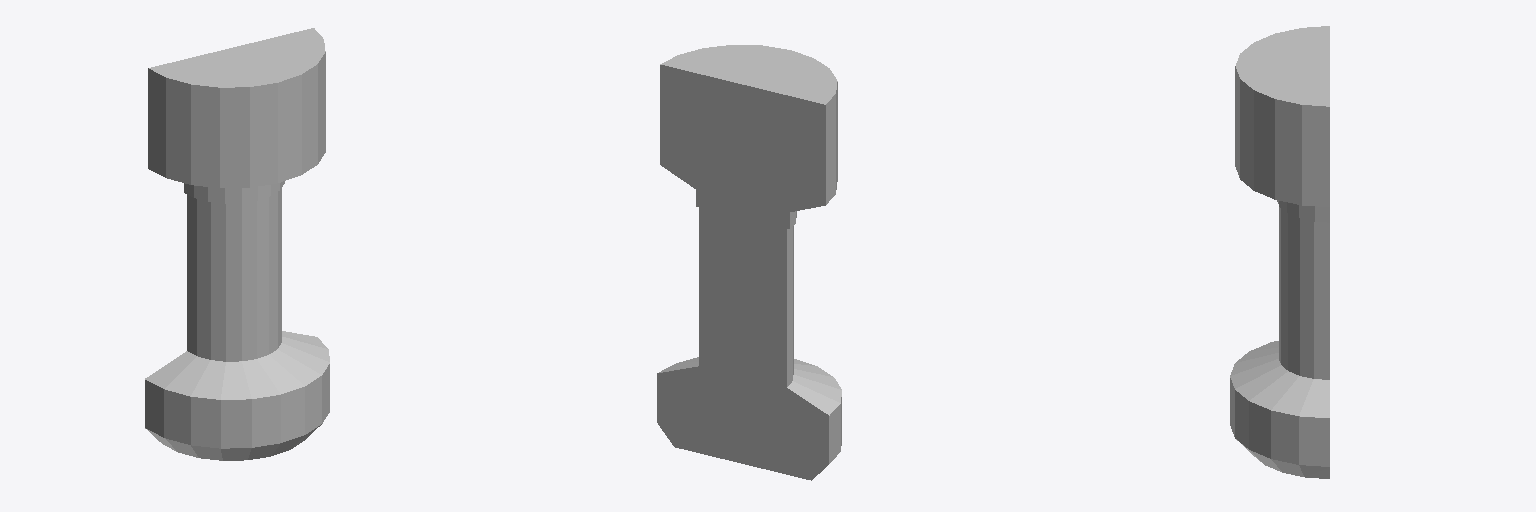
File: Ass_002.obj
The picture shows the model from 3 angles: view 1: azimuth 30°, elevation 25°; view 2: azimuth 150°, elevation 25°; view 3: azimuth 270°, elevation 25°; orthographic projection.
Visible parts, largest first — view 1: Ass_002; view 2: Ass_002; view 3: Ass_002.
Boxes of the visible parts, x1=… form: Ass_002: x1=145, y1=28, x2=329, y2=460; Ass_002: x1=657, y1=45, x2=841, y2=480; Ass_002: x1=1230, y1=26, x2=1329, y2=478.
Size of the model in its own units: 45.62 by 95.74 by 22.89.